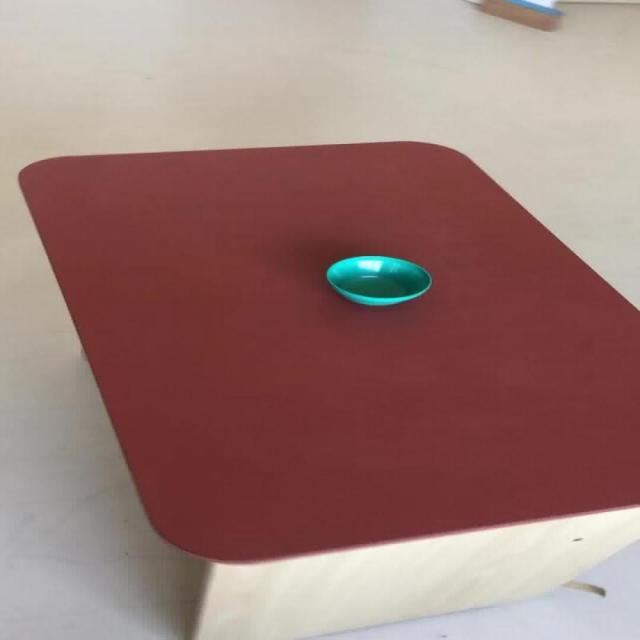Bowl: (324, 254, 432, 306)
